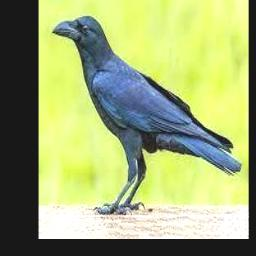Crow: (53, 15, 243, 213)
